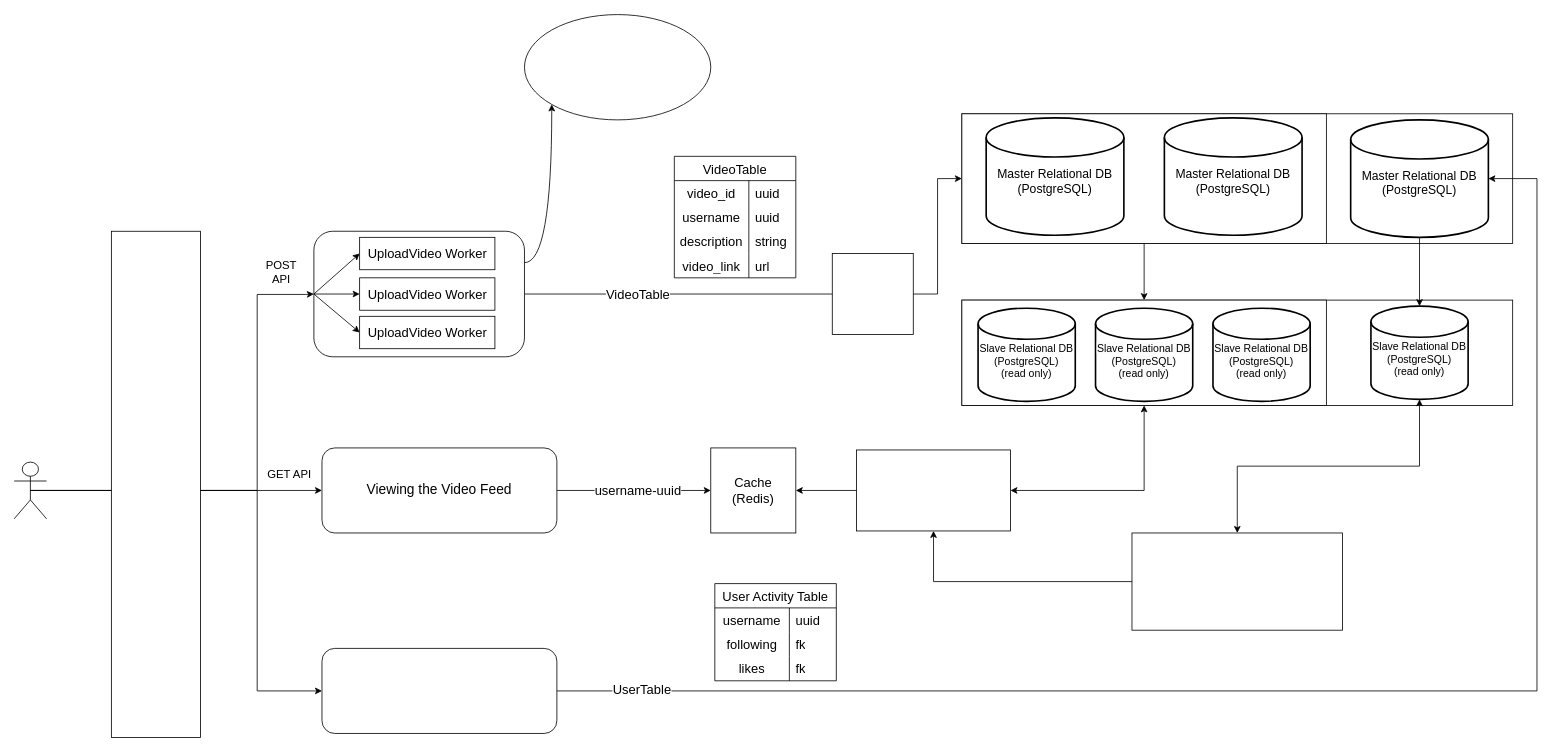
Image size: 1558x752. Some labels were removed from this diagram. Each missing label, with the centre of its shape:
Clip Feed Generation Service: (x=1237, y=581)
LOAD BALANCER: (x=155, y=484)
Object Storage (S3): (x=617, y=67)
Pre-Caching Service: (x=933, y=490)
Shards: (x=872, y=294)
USER: (x=30, y=490)
User Activity (like, comment, follow): (x=439, y=690)
